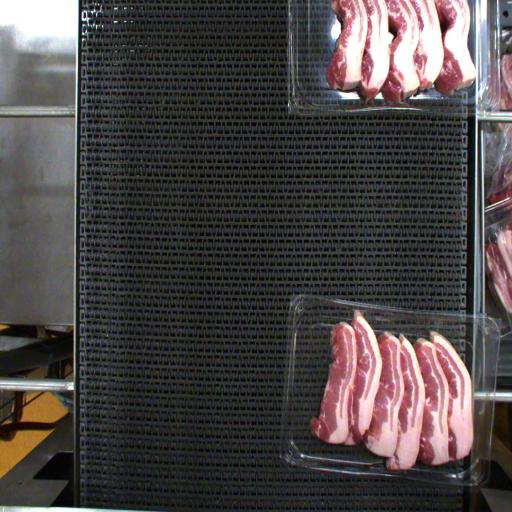packaging-error: (352, 303, 367, 317)
